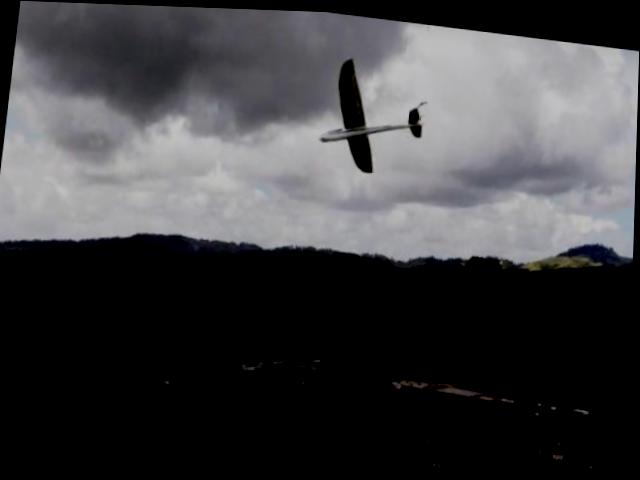iha: (313, 44, 437, 183)
